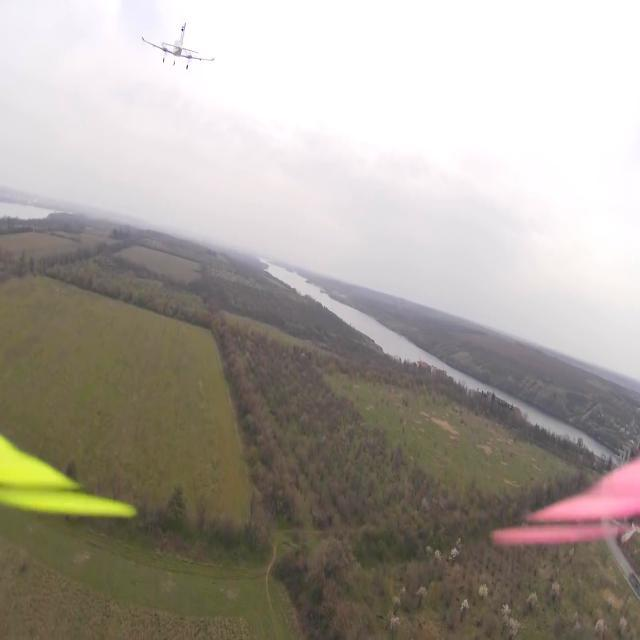iha: (166, 15, 186, 73)
